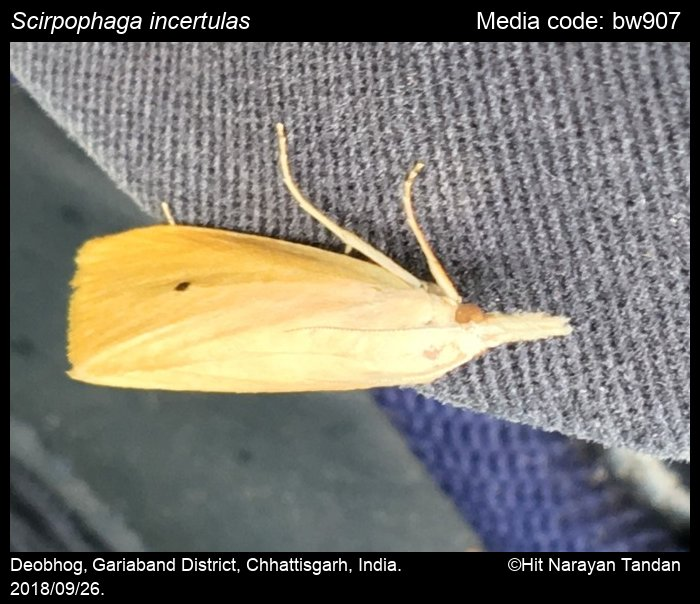Crambidae: (62, 122, 575, 398)
